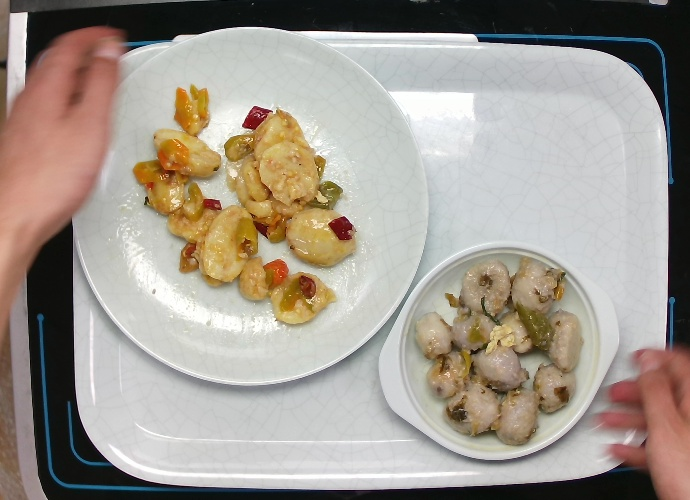JYsf-Da_Yuan_Pan: (72, 23, 432, 386)
JYsf-Shuang_Er_Pan: (378, 241, 623, 464)
